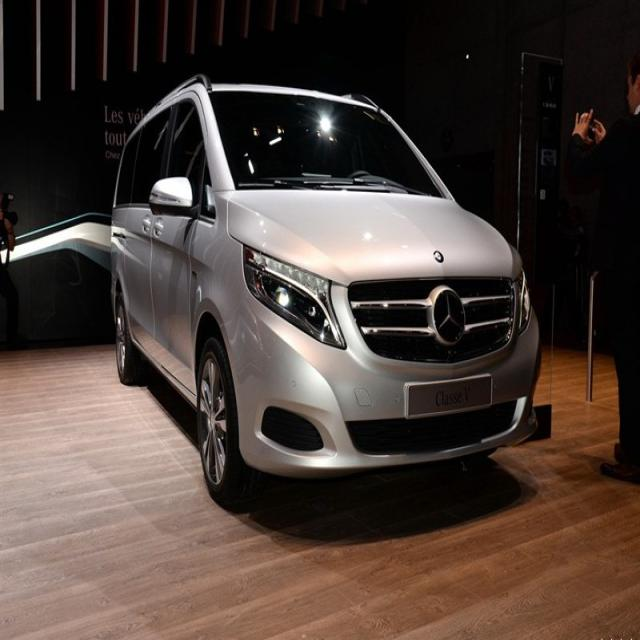front_bumper: (228, 306, 539, 482)
front_glass: (206, 88, 446, 199)
front_left_side_light: (518, 268, 532, 330)
front_right_side_door: (148, 90, 210, 401)
front_right_side_light: (242, 240, 347, 354)
front_right_side_mirror: (150, 174, 198, 220)
wheel: (196, 338, 257, 509), (114, 286, 144, 386)
